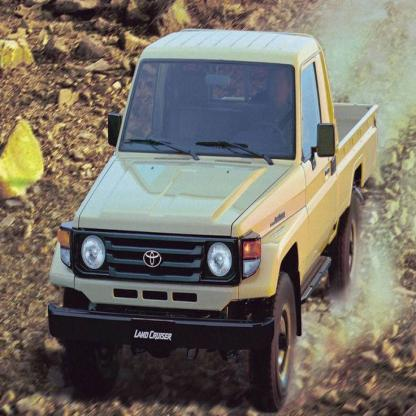light_vehicle: (43, 24, 383, 409)
